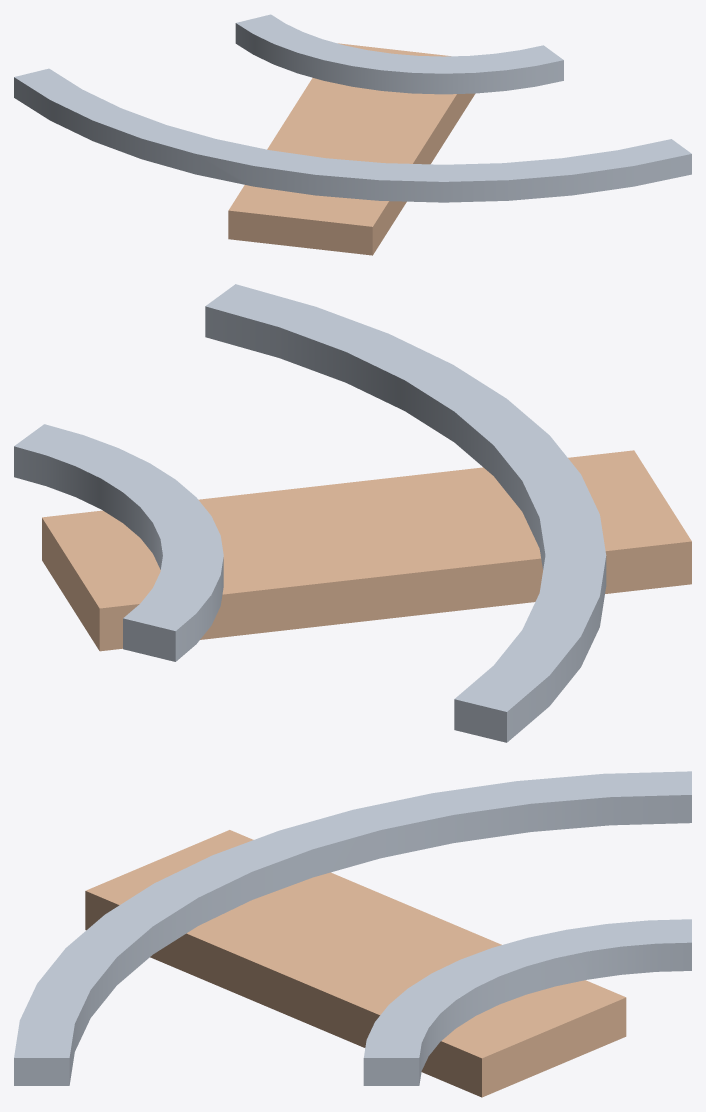
Rendered from trackCorner.glb.
The picture shows the model from 3 angles, top to bottom: view 1: azimuth 30°, elevation 25°; view 2: azimuth 150°, elevation 25°; view 3: azimuth 270°, elevation 25°; orthographic projection. The views are drawn at different scales.
Parts seen in each view (by area): view 1: Mesh trackCorner, Group; view 2: Mesh trackCorner, Group; view 3: Mesh trackCorner, Group.
Part boxes in pixels (bbox=[...]): Mesh trackCorner: bbox=[14, 23, 691, 255]; Group: bbox=[236, 14, 563, 73]; Mesh trackCorner: bbox=[14, 284, 691, 742]; Group: bbox=[14, 424, 223, 630]; Mesh trackCorner: bbox=[14, 771, 691, 1097]; Group: bbox=[364, 919, 691, 1057].
Size of the model in its own units: 0.2197 by 0.0241 by 0.2197.
